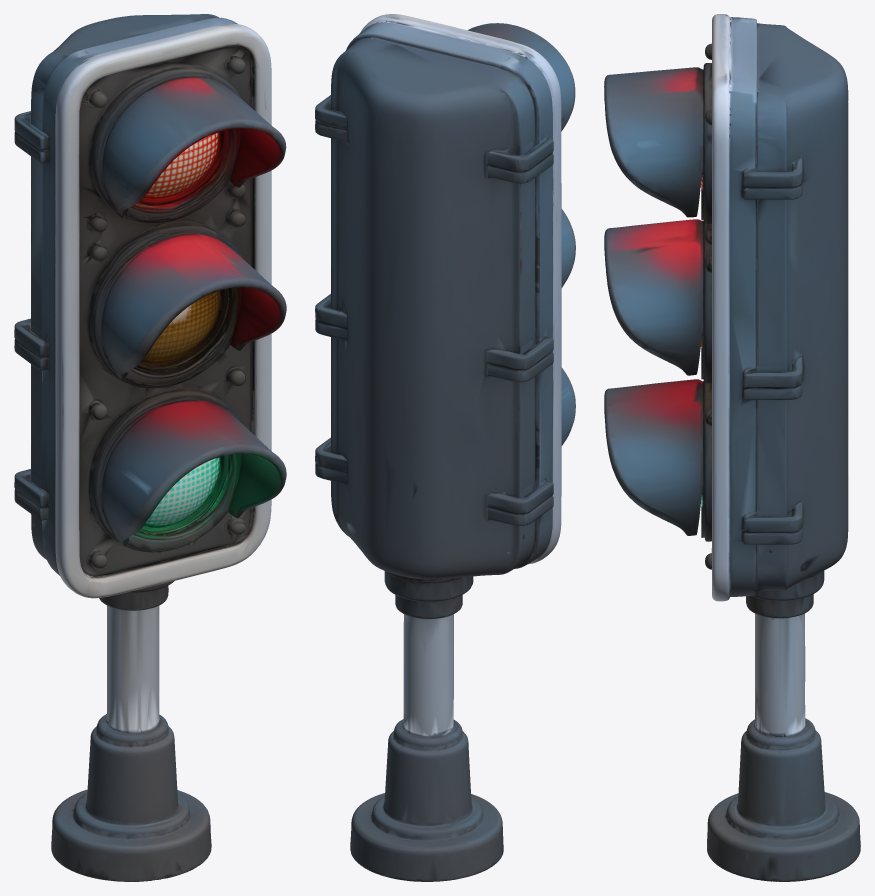
File: sign.glb
3 renders of one model, left to right at view 1: azimuth 30°, elevation 25°; view 2: azimuth 150°, elevation 25°; view 3: azimuth 270°, elevation 25°, orthographic. The views are drawn at different scales.
Parts seen in each view (by area): view 1: material; view 2: material; view 3: material.
Part boxes in pixels (x1,y1,x2,y2): material: [14, 14, 286, 881]; material: [315, 14, 575, 881]; material: [604, 14, 860, 881].
Bounding box in the file's own units: 0.3247 × 1.15 × 0.3343.
1 material, 1 textured.
